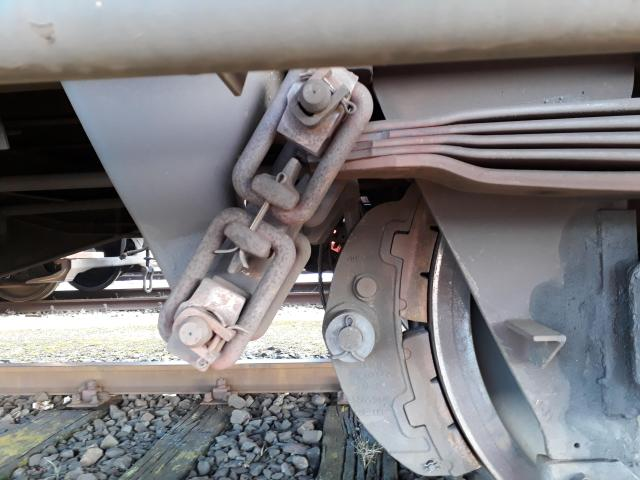blattfederww: (293, 106, 640, 186)
